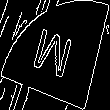M_S: (31, 24, 79, 86)
